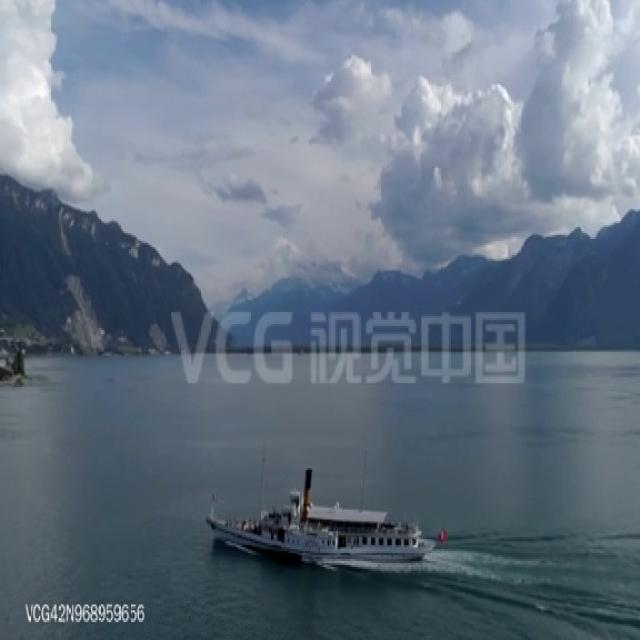passenger ship: (208, 469, 431, 565)
